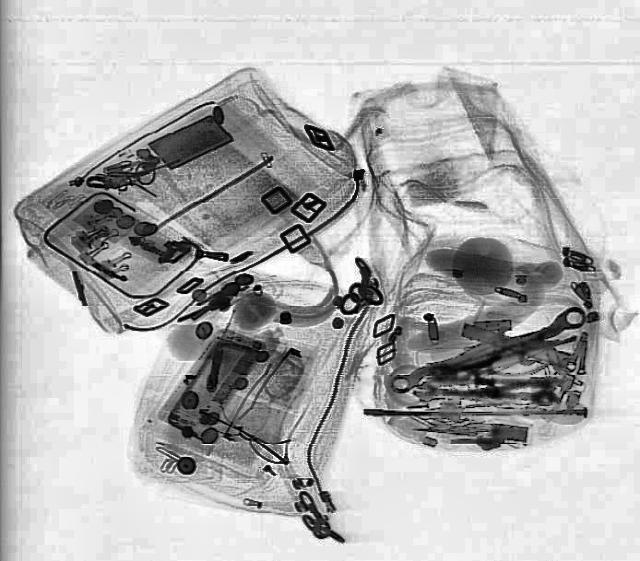Wrench: (385, 304, 589, 396), (412, 376, 554, 412)
